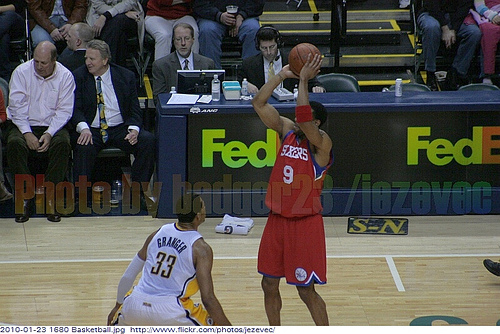basketball: (289, 42, 321, 77)
